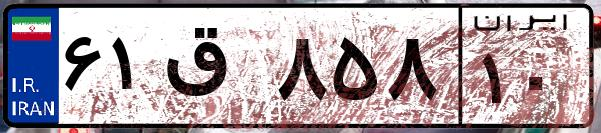0: (525, 38, 570, 115)
1: (475, 38, 525, 113), (110, 28, 158, 98)
5: (330, 28, 385, 110)
6: (57, 26, 110, 100)
8: (270, 28, 330, 110), (385, 28, 445, 110)
ق: (158, 20, 270, 120)
